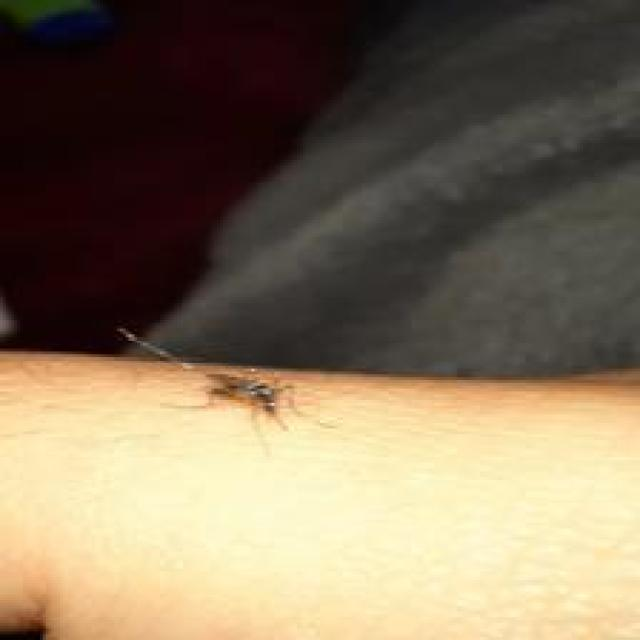Aedes albopictus: (114, 324, 337, 456)
